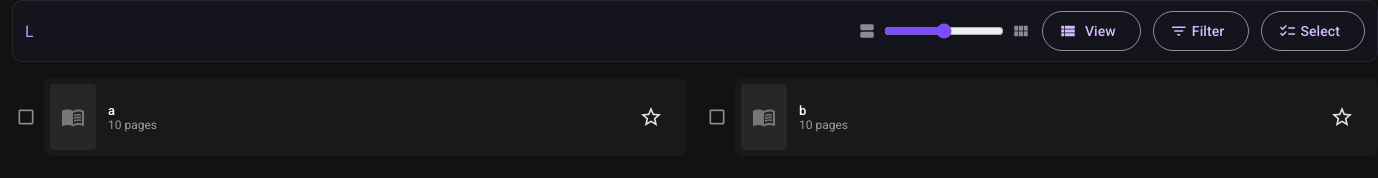
Test: LibraryBrowseComponent list-mode direct select (1.21.0) › list mode: checkbox-driven selection feeds the existing bulk-action bar
Click the 1st checkbox with class "row-select" at (26, 117), box [12,103,40,131]
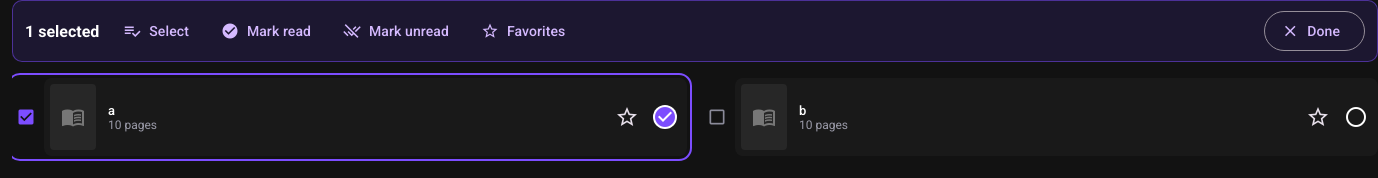
Expected: the text with class "count" reads "1 selected", [25,22,99,40]
Expected: the button "Mark read" is enabled, [209,11,327,51]
